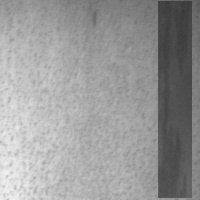inclusion: (158, 1, 192, 198)
pitted_surface: (1, 2, 70, 198), (153, 3, 200, 177)
